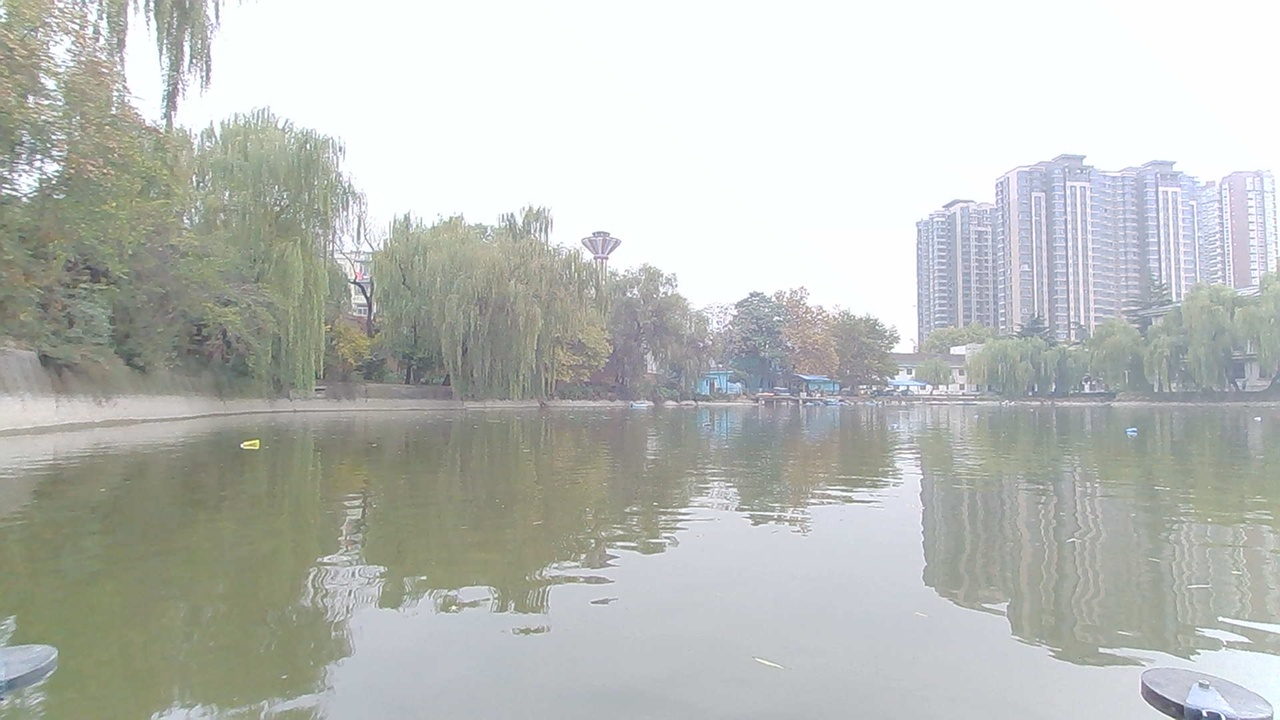bottle: (237, 431, 271, 454), (1121, 417, 1152, 440), (694, 414, 723, 429)
